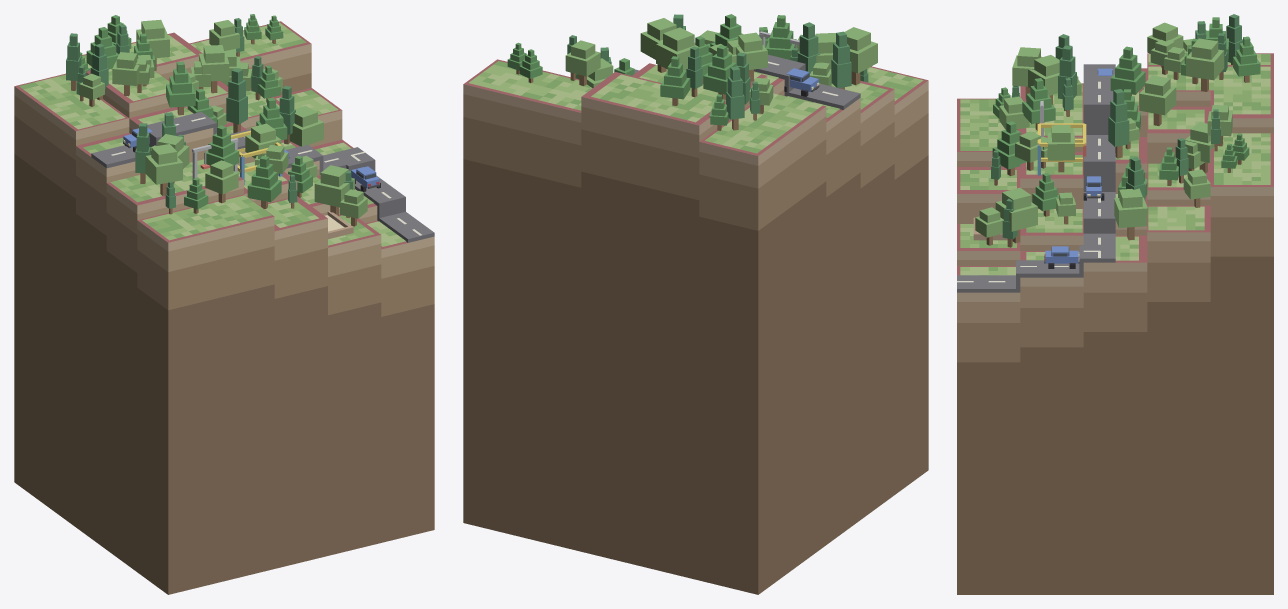
File: block_20_urbanfarm_0.glb
The picture shows the model from 3 angles, left to right: view 1: azimuth 30°, elevation 25°; view 2: azimuth 150°, elevation 25°; view 3: azimuth 270°, elevation 25°; orthographic projection. The views are drawn at different scales.
Visible parts, largest first — view 1: Patch_UpperRight_b20_UF, Green_UpperRight_b20_UF, Roads_UpperRight_b20_UF, PlayEquip_UpperRight_b20_UF, URTree_20_37_UF, URTree_20_16_UF, URTree_20_13_UF, URTree_20_0_UF, URTree_20_5_UF, URTree_20_18_UF, URTree_20_3_UF, URTree_20_35_UF (+15 smaller); view 2: Patch_UpperRight_b20_UF, Green_UpperRight_b20_UF, Roads_UpperRight_b20_UF, URTree_20_37_UF, URTree_20_46_UF, URTree_20_25_UF, URTree_20_41_UF, URTree_20_34_UF, URTree_20_49_UF, URTree_20_45_UF, URTree_20_50_UF, URTree_20_36_UF (+3 smaller); view 3: Patch_UpperRight_b20_UF, Green_UpperRight_b20_UF, Roads_UpperRight_b20_UF, URTree_20_46_UF, URTree_20_3_UF, URTree_20_16_UF, URTree_20_18_UF, URTree_20_0_UF, URTree_20_5_UF, PlayEquip_UpperRight_b20_UF, URTree_20_15_UF, URTree_20_36_UF (+21 smaller).
Part boxes in pixels (<box>): Patch_UpperRight_b20_UF: <box>14,21,434,594</box>; Green_UpperRight_b20_UF: <box>19,22,405,246</box>; Roads_UpperRight_b20_UF: <box>91,112,434,242</box>; PlayEquip_UpperRight_b20_UF: <box>192,130,353,239</box>; URTree_20_37_UF: <box>145,144,182,195</box>; URTree_20_16_UF: <box>314,165,354,216</box>; URTree_20_13_UF: <box>247,156,281,208</box>; URTree_20_0_UF: <box>226,68,247,133</box>; URTree_20_5_UF: <box>166,61,195,115</box>; URTree_20_18_UF: <box>289,106,323,146</box>; URTree_20_3_UF: <box>199,45,229,93</box>; URTree_20_35_UF: <box>205,160,238,203</box>; Patch_UpperRight_b20_UF: <box>463,59,928,594</box>; Green_UpperRight_b20_UF: <box>469,61,923,153</box>; Roads_UpperRight_b20_UF: <box>634,54,860,109</box>; URTree_20_37_UF: <box>844,27,877,85</box>; URTree_20_46_UF: <box>656,27,698,70</box>; URTree_20_25_UF: <box>565,40,600,85</box>; URTree_20_41_UF: <box>703,45,736,100</box>; URTree_20_34_UF: <box>831,31,851,89</box>; URTree_20_49_UF: <box>660,56,690,105</box>; URTree_20_45_UF: <box>726,66,744,130</box>; URTree_20_50_UF: <box>736,32,767,81</box>; URTree_20_36_UF: <box>766,15,796,59</box>; Patch_UpperRight_b20_UF: <box>957,53,1273,594</box>; Green_UpperRight_b20_UF: <box>960,54,1270,275</box>; Roads_UpperRight_b20_UF: <box>957,64,1115,292</box>; URTree_20_46_UF: <box>1186,38,1224,91</box>; URTree_20_3_UF: <box>1139,75,1176,125</box>; URTree_20_16_UF: <box>995,187,1037,243</box>; URTree_20_18_UF: <box>1114,188,1147,240</box>; URTree_20_0_UF: <box>1108,89,1129,158</box>; URTree_20_5_UF: <box>1110,46,1145,95</box>; PlayEquip_UpperRight_b20_UF: <box>973,100,1086,240</box>; URTree_20_15_UF: <box>1047,125,1074,172</box>; URTree_20_36_UF: <box>1022,78,1055,130</box>.
Size of the model in its own units: 9.5 by 15.65 by 9.5.
